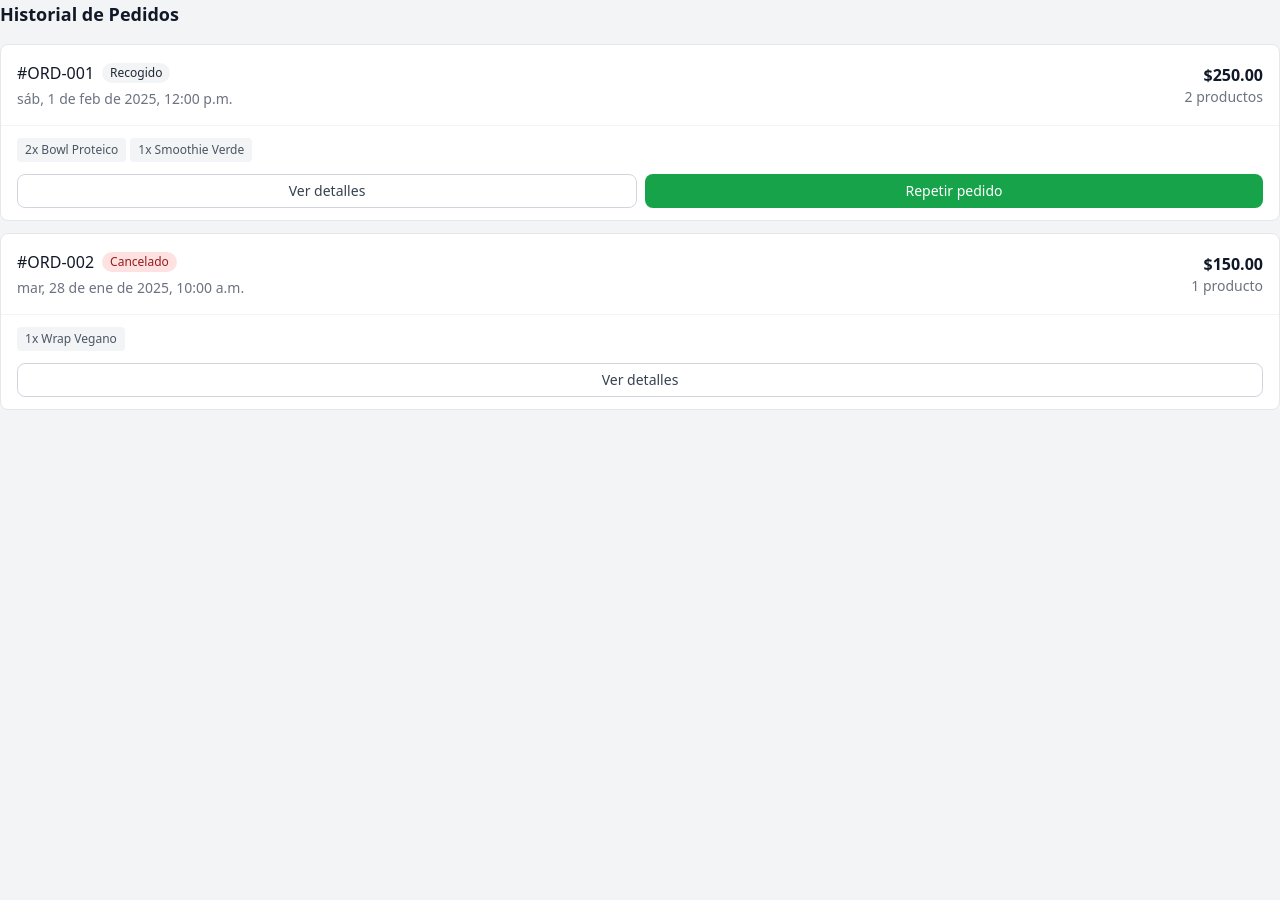
Test case: OrderHistory › Order Detail Modal › should close modal when close button is clicked
The image size is (1280, 900).
Click the button "Ver detalles" below "Bowl Proteico" at (327, 191), box [17,174,637,208]
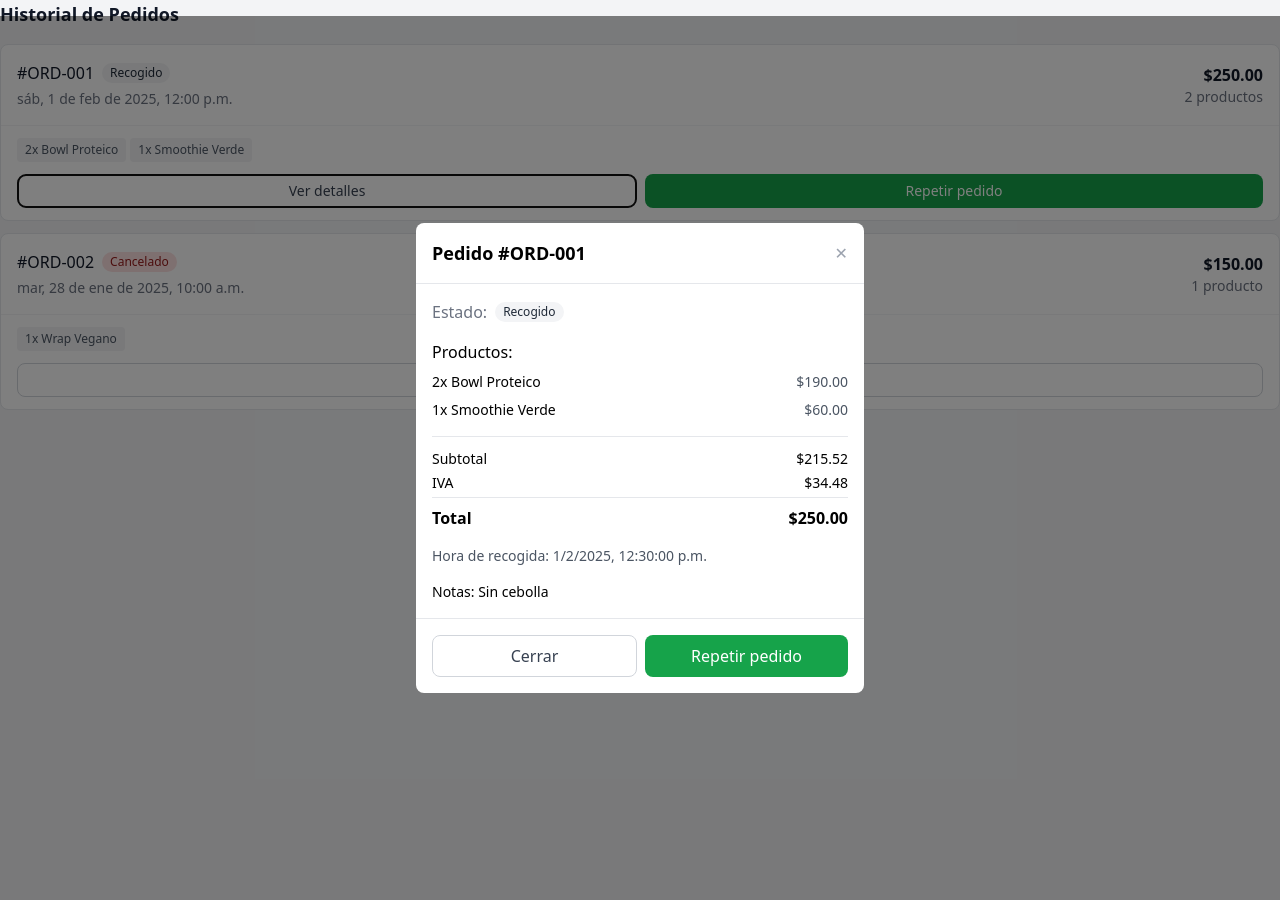
Result: the heading "Pedido #ORD-001" is shown at [432,239,586,267]
Click the button "Cerrar" at (534, 656), box [432,635,637,677]
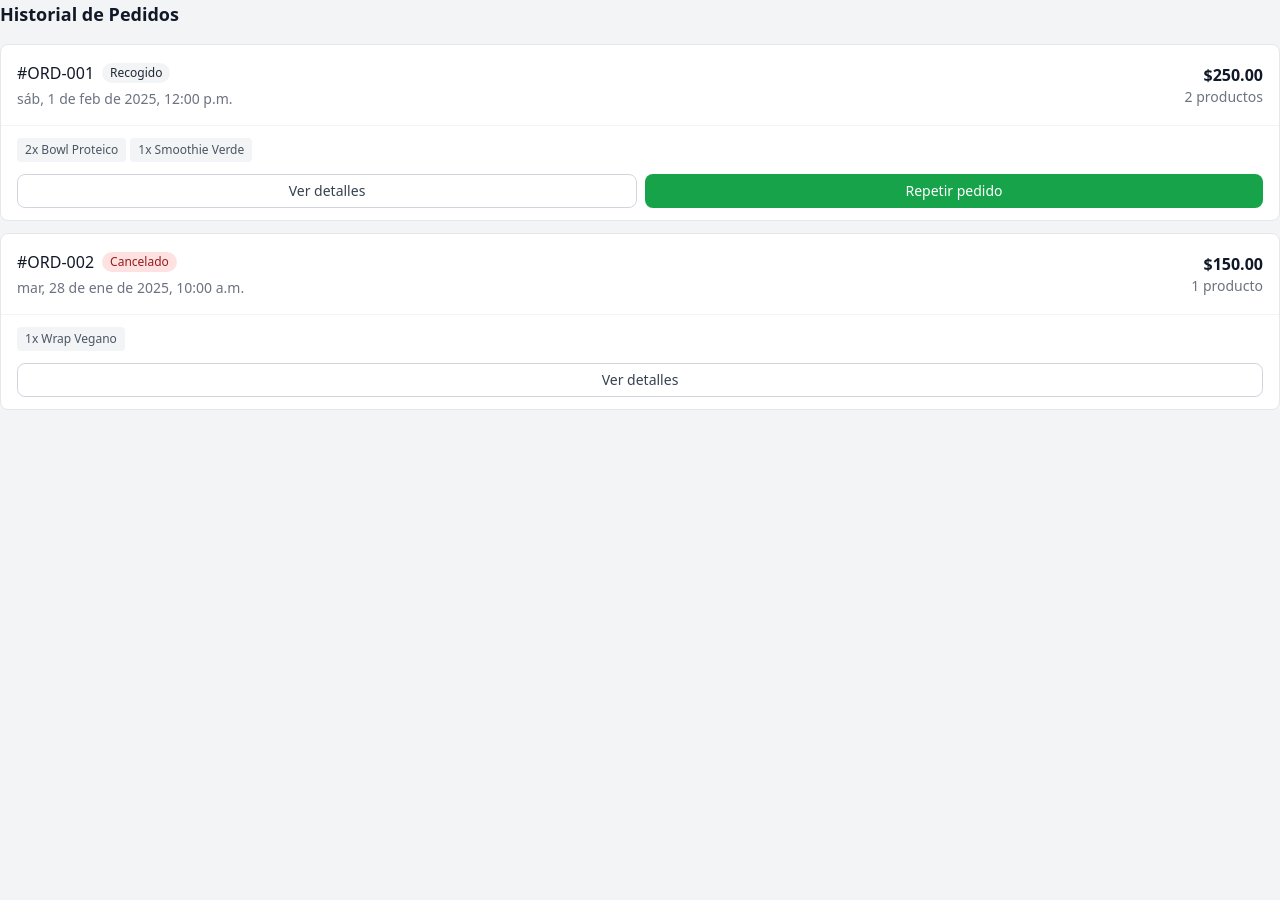
Result: the heading "Pedido #ORD-001" is gone
